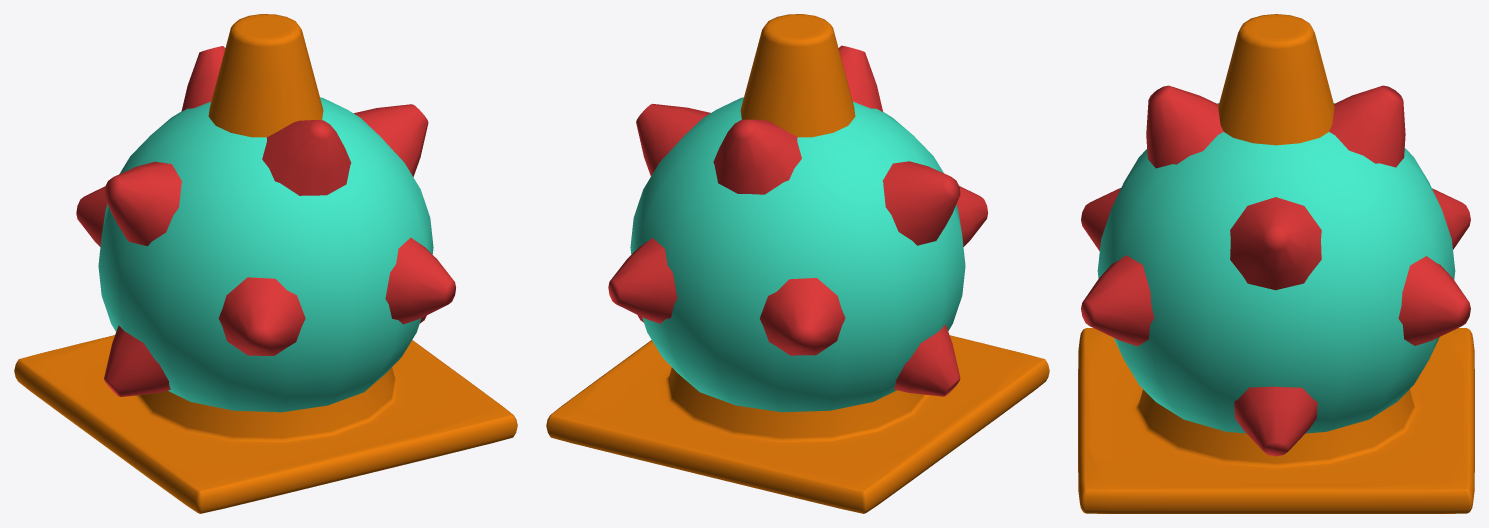
File: Props_Cone_Ball_Spiked.fbx
3 renders of one model, left to right at view 1: azimuth 30°, elevation 25°; view 2: azimuth 150°, elevation 25°; view 3: azimuth 270°, elevation 25°, orthographic. The views are drawn at different scales.
Visible parts, largest first — view 1: Ball, Cone, SpikedBall; view 2: Ball, Cone, SpikedBall; view 3: Ball, Cone, SpikedBall.
Boxes of the visible parts, <box> form: Ball: <box>98,97,433,412</box>; Cone: <box>14,14,517,513</box>; SpikedBall: <box>76,46,455,396</box>; Ball: <box>630,97,965,412</box>; Cone: <box>546,14,1049,513</box>; SpikedBall: <box>608,45,987,396</box>; Ball: <box>1097,103,1455,433</box>; Cone: <box>1078,14,1474,513</box>; SpikedBall: <box>1081,85,1470,456</box>.
Bounding box in the file's own units: 29.46 × 33.91 × 29.53.
